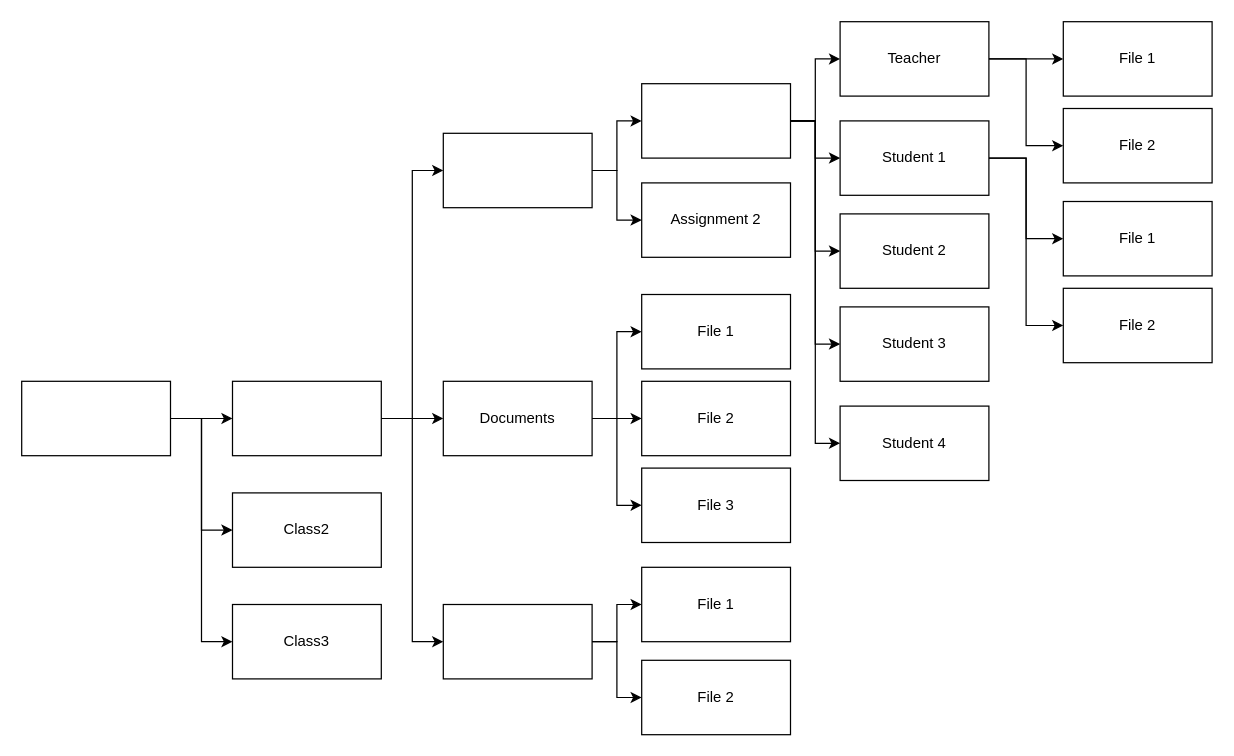
This 1234x756 diagram has some shape labels left out. Each missing label, with the centre of its shape:
Assignment 1: the point at 715,120
Assignments: the point at 517,170
Class1: the point at 306,418
Firestore: the point at 95,418
Records: the point at 517,641
